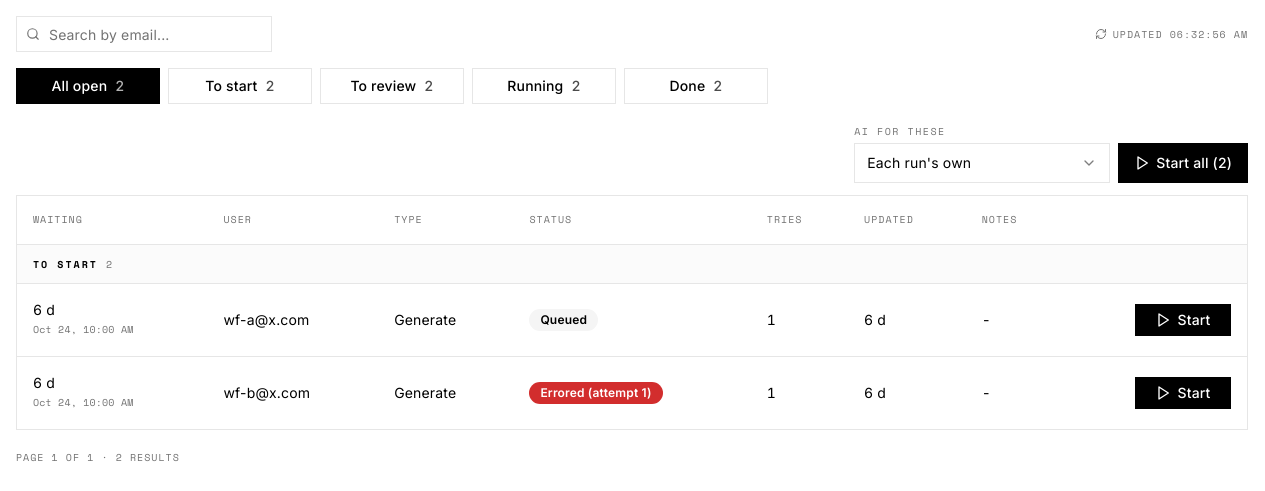
AdminCadQueuePage › starts one run from its row's Start and shows the result in that row
Check: the text "wf-a@x.com" is shown, box [224,310,310,328]
Click the button "Start" in the row of "wf-a@x.com". click: click(1183, 320)
box: [1135,304,1231,336]
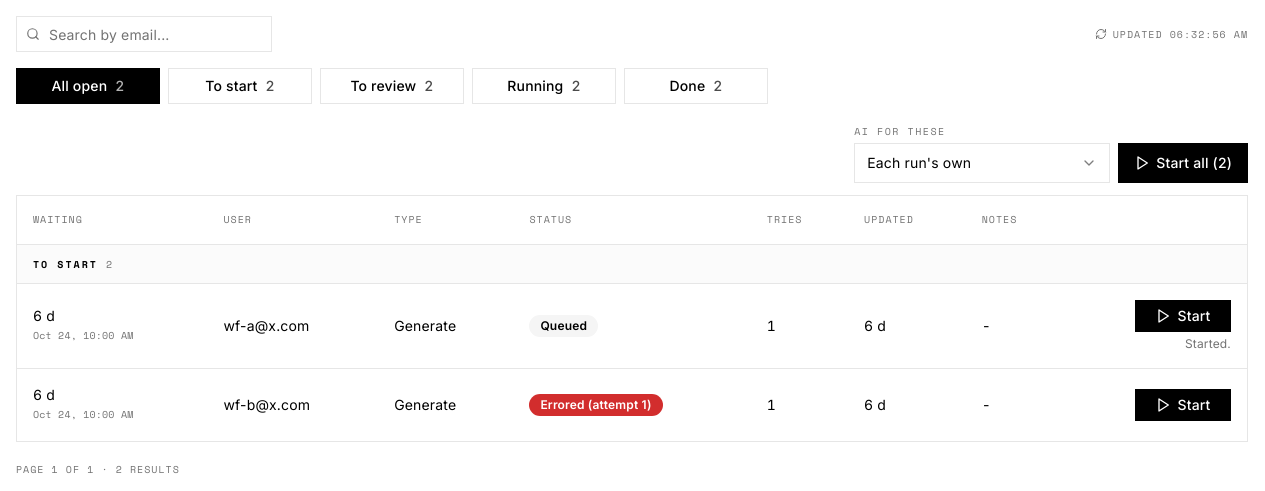
Check: the text "Started." is shown, box [1185,336,1231,352]
